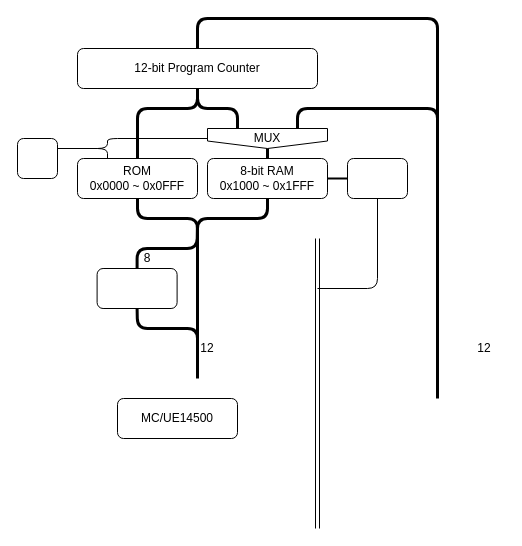
Some shapes in this 522 by 546 pixel diagram are drawn without their labels. The box of each missing label's shape, as (x1, y1, x2, y2) in pixels:
8-bit latch: (96, 268, 177, 308)
8-bit Shift Regsiter: (346, 158, 408, 198)
Bank Control: (16, 138, 58, 178)
